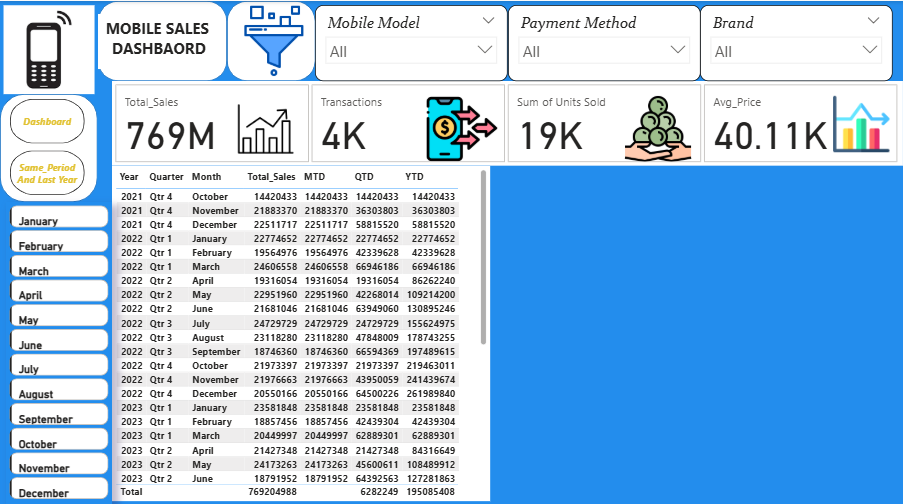

Layout of this report page (visuals, bound fields, positions):
{"tool":"powerbi","page":{"name":"Mtd_Report","canvas":[1280,720],"ordinal":1},"visuals":[{"type":"image","box":[0,0,138.8,138.8],"z":0},{"type":"shape","box":[0,131.5,138.2,153.1],"z":1000},{"type":"cardVisual","fields":{"Data":["Sales_Data.Total_Sales","Sales_Data.Transactions","Sum(Sales_Data.Units Sold)","Sales_Data.Avg_Price"]},"box":[158.7,113.4,1121.1,120.5],"z":2000},{"type":"slicer","fields":{"Values":["Sales_Data.Mobile Model"]},"box":[447,5.1,272.6,108.4],"z":3000},{"type":"slicer","fields":{"Values":["Sales_Data.Payment Method"]},"box":[719.6,5.1,272.6,108.4],"z":4000},{"type":"slicer","fields":{"Values":["Sales_Data.Brand"]},"box":[992.2,5.1,272.6,108.4],"z":5000},{"type":"shape","box":[321.7,0,125.3,113.4],"z":6000},{"type":"image","box":[321.7,0,132.1,113.4],"z":7000},{"type":"shape","box":[138.8,0,182.9,113.4],"z":8000},{"type":"textbox","box":[138.8,18.6,172.7,77.9],"z":9000},{"type":"tableEx","fields":{"Values":["Custom_calender.Date.Variation.Date Hierarchy.Year","Custom_calender.Date.Variation.Date Hierarchy.Quarter","Custom_calender.Date.Variation.Date Hierarchy.Month","Sales_Data.Total_Sales","Sales_Data.MTD","Sales_Data.QTD","Sales_Data.YTD"]},"box":[158.7,233.9,523,474.8],"z":10000},{"type":"advancedSlicerVisual","fields":{"Values":["Custom_calender.Date.Variation.Date Hierarchy.Month"]},"box":[8.3,285,150,435],"z":11000},{"type":"pageNavigator","box":[8.5,138.9,117.6,136.1],"z":12000}]}

Visuals, with their boxes in screenshot pixels (x1, y1, x2, y2), scaled from the page's 1280x720 canvas onto the 903x504 screenshot:
image: bbox=[0, 0, 98, 97]
shape: bbox=[0, 92, 97, 199]
cardVisual - Sales_Data.Total_Sales x Sales_Data.Transactions: bbox=[112, 79, 902, 164]
slicer - Sales_Data.Mobile Model: bbox=[315, 4, 508, 79]
slicer - Sales_Data.Payment Method: bbox=[508, 4, 700, 79]
slicer - Sales_Data.Brand: bbox=[700, 4, 892, 79]
shape: bbox=[227, 0, 315, 79]
image: bbox=[227, 0, 320, 79]
shape: bbox=[98, 0, 227, 79]
textbox: bbox=[98, 13, 220, 68]
tableEx - Custom_calender.Date.Variation.Date Hierarchy.Year x Custom_calender.Date.Variation.Date Hierarchy.Quarter: bbox=[112, 164, 481, 496]
advancedSlicerVisual - Custom_calender.Date.Variation.Date Hierarchy.Month: bbox=[6, 200, 112, 503]
pageNavigator: bbox=[6, 97, 89, 192]
